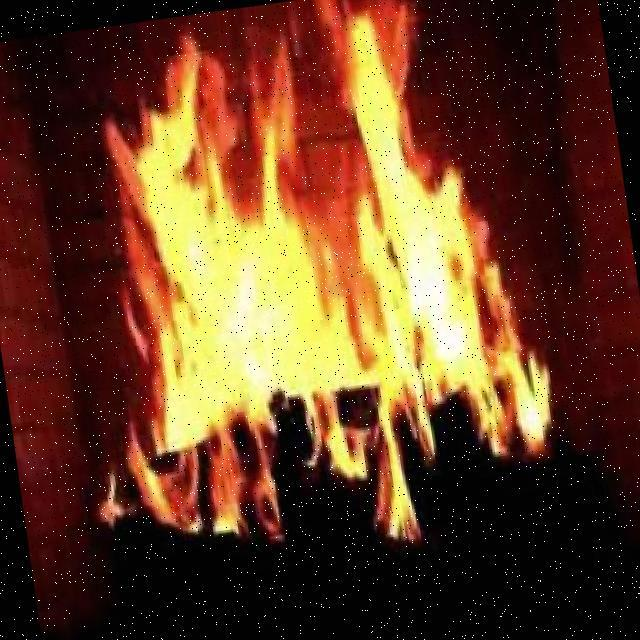Fire: (90, 36, 540, 489)
